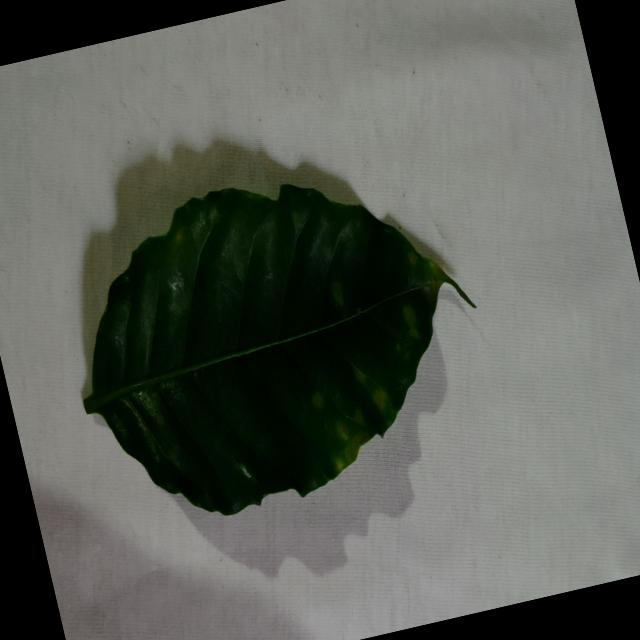KaratDaunKopi: (403, 305, 419, 337), (403, 305, 418, 337), (373, 388, 387, 410), (353, 366, 366, 383), (312, 391, 324, 408), (337, 421, 348, 439), (353, 409, 365, 424), (335, 459, 343, 471)
